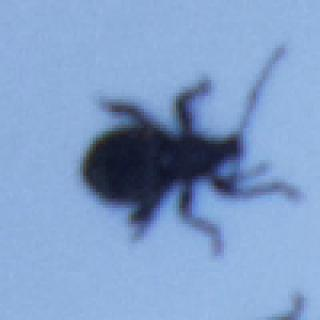bvw: (81, 47, 303, 257)
